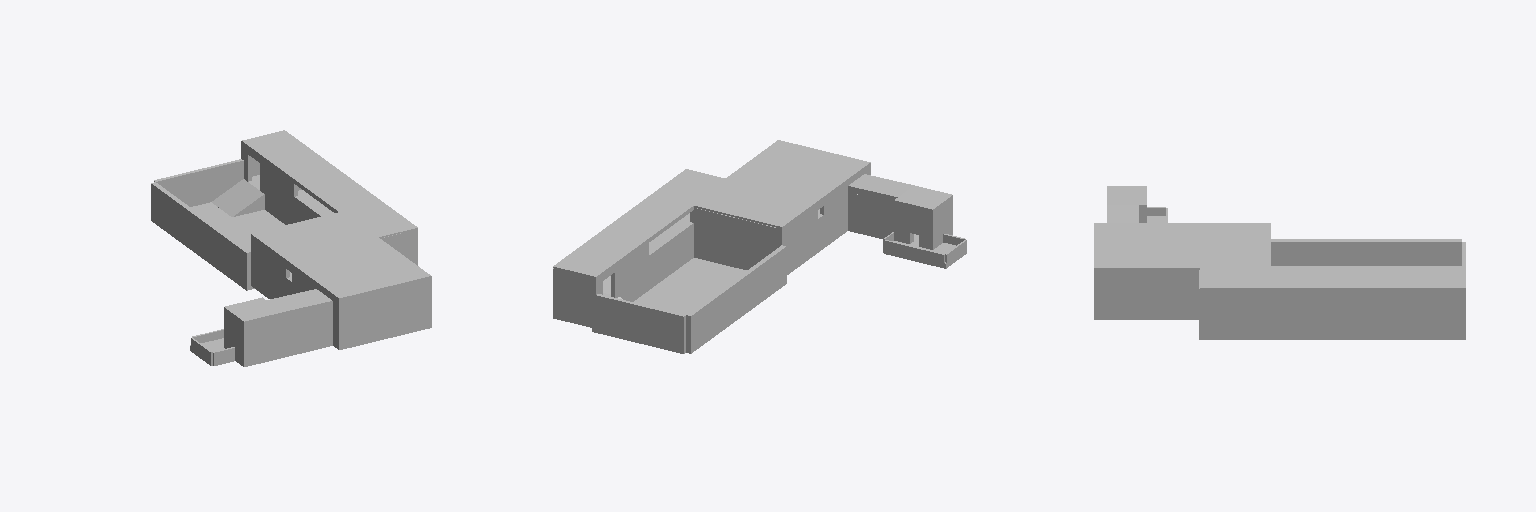
Rendered from Level1.obj.
3 views of the same model, side by side, from view 1: azimuth 30°, elevation 25°; view 2: azimuth 150°, elevation 25°; view 3: azimuth 270°, elevation 25° (orthographic).
Visible parts, largest first — view 1: Level1; view 2: Level1; view 3: Level1.
Boxes of the visible parts, x1=… form: Level1: x1=151, y1=130, x2=431, y2=366; Level1: x1=553, y1=140, x2=966, y2=353; Level1: x1=1094, y1=186, x2=1465, y2=339.
Bounding box in the file's own units: 47.26 × 10.36 × 62.44.